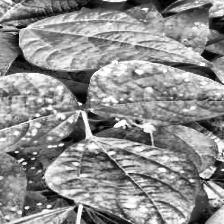Bean Rust: (46, 136, 202, 224), (87, 63, 224, 127), (0, 74, 76, 162), (0, 197, 89, 224), (0, 17, 19, 90)
